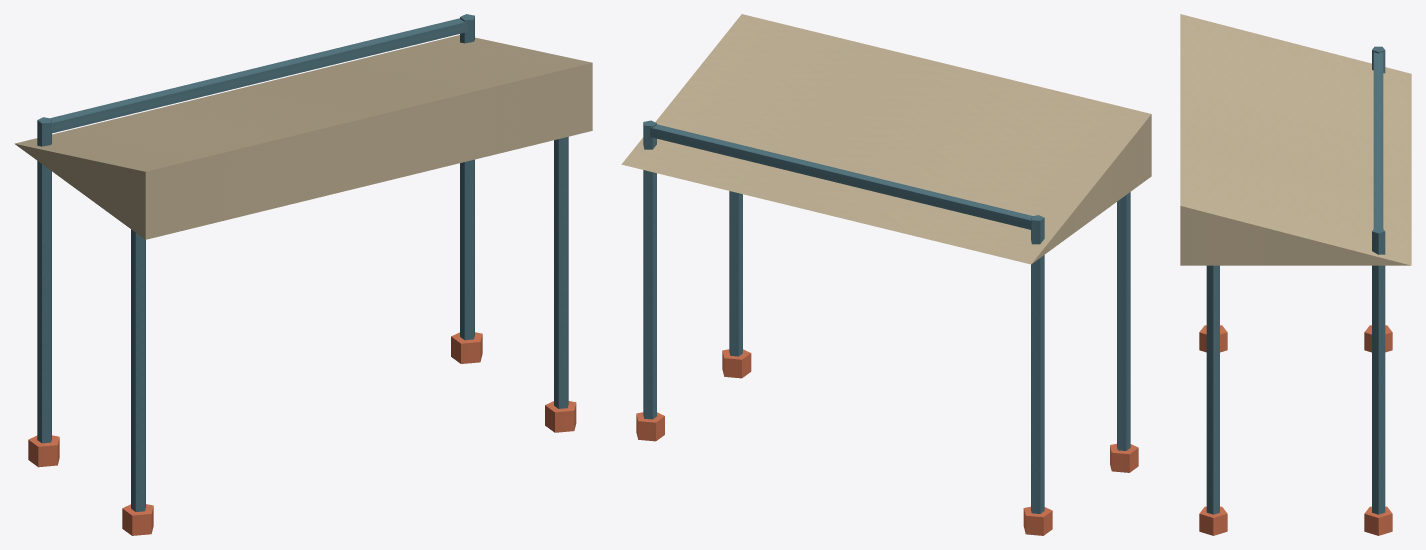
Rendered from atlas100-s041-a08.lod1.glb.
3 views of the same model, side by side, from view 1: azimuth 30°, elevation 25°; view 2: azimuth 150°, elevation 25°; view 3: azimuth 270°, elevation 25° (orthographic). The views are drawn at different scales.
Visible parts, largest first — view 1: atlas100-s041-a08:part-010, atlas100-s041-a08:part-008, atlas100-s041-a08:part-000, atlas100-s041-a08:part-002, atlas100-s041-a08:part-006, atlas100-s041-a08:part-004, atlas100-s041-a08:part-001, atlas100-s041-a08:part-007, atlas100-s041-a08:part-003, atlas100-s041-a08:part-005; view 2: atlas100-s041-a08:part-010, atlas100-s041-a08:part-008, atlas100-s041-a08:part-000, atlas100-s041-a08:part-004, atlas100-s041-a08:part-002, atlas100-s041-a08:part-006, atlas100-s041-a08:part-001, atlas100-s041-a08:part-007, atlas100-s041-a08:part-003, atlas100-s041-a08:part-005; view 3: atlas100-s041-a08:part-010, atlas100-s041-a08:part-004, atlas100-s041-a08:part-006, atlas100-s041-a08:part-008, atlas100-s041-a08:part-005, atlas100-s041-a08:part-007, atlas100-s041-a08:part-001, atlas100-s041-a08:part-003.
Boxes of the visible parts, x1,y1,x2,y2 form: atlas100-s041-a08:part-010: [14, 35, 592, 239]; atlas100-s041-a08:part-008: [50, 18, 467, 133]; atlas100-s041-a08:part-000: [37, 117, 51, 443]; atlas100-s041-a08:part-002: [131, 229, 145, 511]; atlas100-s041-a08:part-006: [554, 136, 568, 408]; atlas100-s041-a08:part-004: [460, 14, 474, 340]; atlas100-s041-a08:part-001: [28, 435, 59, 467]; atlas100-s041-a08:part-007: [545, 401, 576, 432]; atlas100-s041-a08:part-003: [122, 504, 153, 535]; atlas100-s041-a08:part-005: [451, 332, 482, 363]; atlas100-s041-a08:part-010: [621, 14, 1151, 264]; atlas100-s041-a08:part-008: [650, 124, 1032, 229]; atlas100-s041-a08:part-000: [1031, 215, 1044, 513]; atlas100-s041-a08:part-004: [643, 120, 656, 419]; atlas100-s041-a08:part-002: [1117, 192, 1130, 450]; atlas100-s041-a08:part-006: [729, 191, 742, 356]; atlas100-s041-a08:part-001: [1023, 506, 1052, 535]; atlas100-s041-a08:part-007: [722, 349, 751, 378]; atlas100-s041-a08:part-003: [1110, 443, 1138, 472]; atlas100-s041-a08:part-005: [636, 412, 664, 441]; atlas100-s041-a08:part-010: [1180, 14, 1411, 265]; atlas100-s041-a08:part-004: [1372, 228, 1385, 514]; atlas100-s041-a08:part-006: [1206, 265, 1219, 514]; atlas100-s041-a08:part-008: [1373, 52, 1383, 228]; atlas100-s041-a08:part-005: [1364, 506, 1392, 535]; atlas100-s041-a08:part-007: [1199, 506, 1227, 535]; atlas100-s041-a08:part-001: [1364, 325, 1392, 352]; atlas100-s041-a08:part-003: [1199, 325, 1227, 352].
Size of the model in its own units: 5.53 by 4.4 by 2.8.
3 materials, 3 textured.
